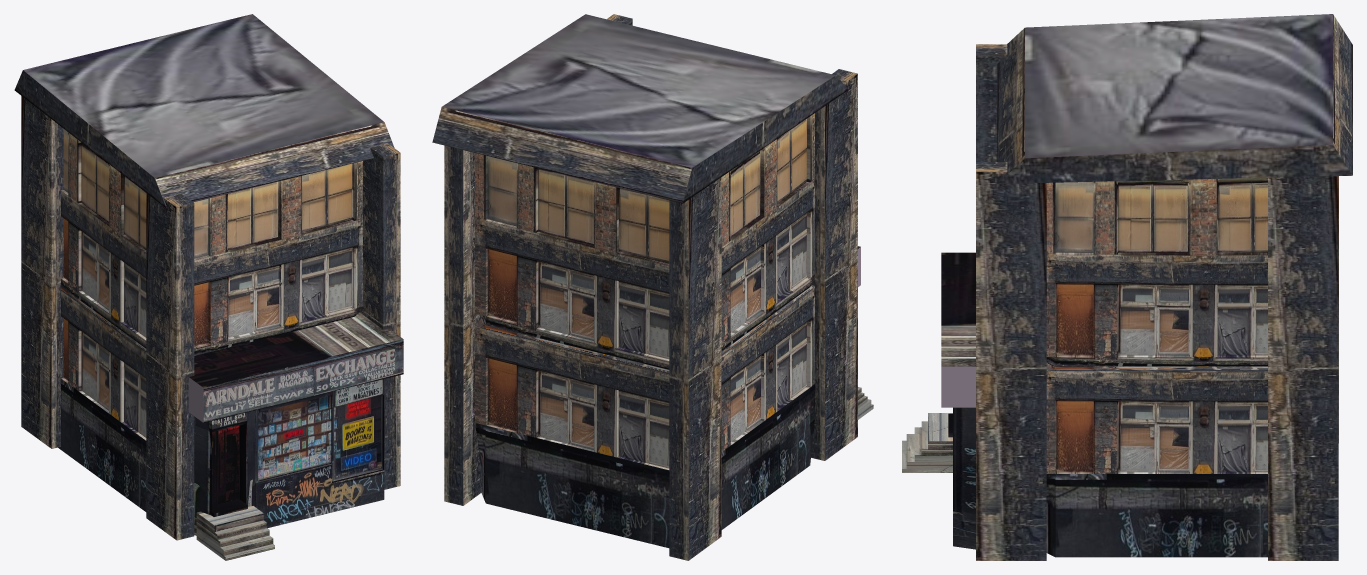
3 views of the same model, side by side, from view 1: azimuth 30°, elevation 25°; view 2: azimuth 150°, elevation 25°; view 3: azimuth 270°, elevation 25° (orthographic). The views are drawn at different scales.
Visible parts, largest first — view 1: Plane.031; view 2: Plane.031; view 3: Plane.031.
Part boxes in pixels (bbox=[...]): Plane.031: bbox=[14, 14, 403, 560]; Plane.031: bbox=[432, 14, 873, 560]; Plane.031: bbox=[902, 14, 1352, 560].
Bounding box in the file's own units: 1.57 × 2.37 × 2.29.
Materials: 1 (1 with a texture image).
